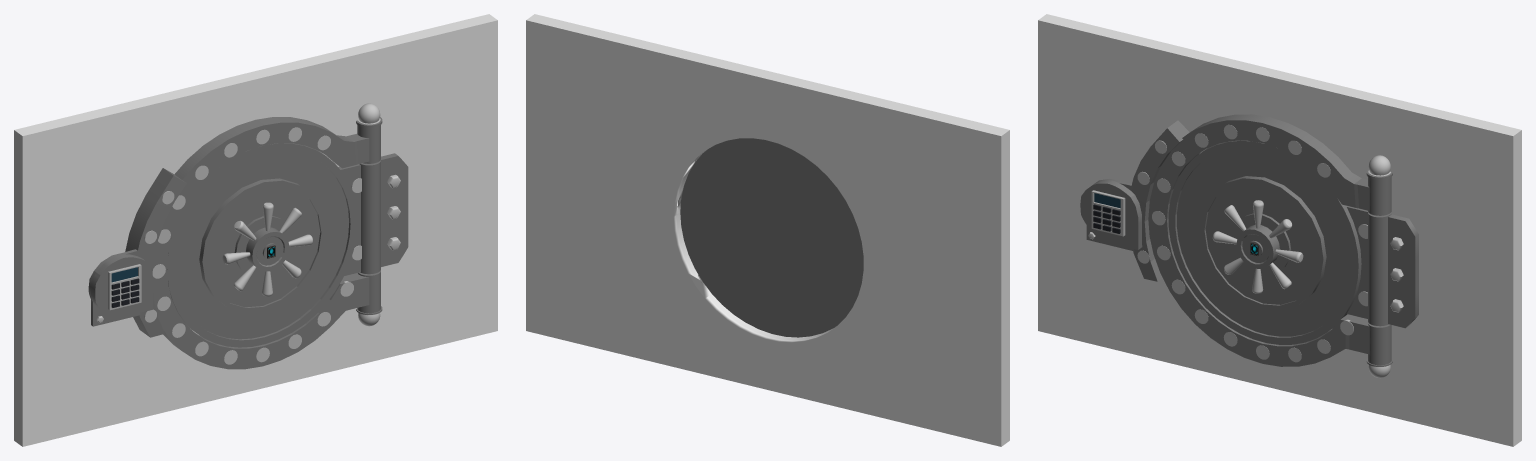
Rendered from Vault.fbx.
3 renders of one model, left to right at view 1: azimuth 30°, elevation 25°; view 2: azimuth 150°, elevation 25°; view 3: azimuth 330°, elevation 25°, orthographic.
Parts seen in each view (by area): view 1: Cube, pCylinder6, pCylinder10, pCylinder5, Cebar, Pin_Side, pCylinder8, pCube1, Machin, pCylinder3, pCylinder4, pCylinder7 (+2 smaller); view 2: Cube, pCylinder6; view 3: Cube, pCylinder6, pCylinder10, pCylinder5, Cebar, Pin_Side, pCylinder8, pCube1, Machin, pCylinder3, pCylinder9, pCylinder4 (+1 smaller).
Boxes of the visible parts, x1,y1,x2,y2 form: Cube: (14, 14, 497, 446); pCylinder6: (167, 143, 357, 347); pCylinder10: (152, 117, 369, 369); pCylinder5: (199, 178, 325, 312); Cebar: (338, 153, 408, 275); Pin_Side: (125, 168, 186, 337); pCylinder8: (359, 160, 380, 274); pCube1: (91, 254, 152, 316); Machin: (108, 264, 141, 310); pCylinder3: (246, 227, 289, 271); pCylinder4: (234, 216, 292, 276); pCylinder7: (356, 117, 382, 163); Cube: (526, 14, 1009, 446); pCylinder6: (680, 138, 863, 337); Cube: (1038, 14, 1521, 446); pCylinder6: (1168, 140, 1361, 344); pCylinder10: (1148, 114, 1369, 366); pCylinder5: (1200, 176, 1326, 309); Cebar: (1347, 206, 1418, 328); Pin_Side: (1131, 120, 1189, 281); pCylinder8: (1368, 212, 1391, 326); pCube1: (1080, 180, 1142, 249); Machin: (1091, 190, 1125, 236); pCylinder3: (1236, 225, 1279, 268); pCylinder9: (1366, 322, 1392, 366); pCylinder4: (1233, 213, 1291, 274).
Bounding box in the file's own units: 6.4 × 0.6078 × 4.
